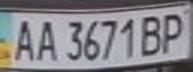1: (115, 15, 142, 58)
3: (63, 17, 84, 62)
6: (81, 17, 103, 62)
7: (96, 16, 121, 61)
A: (6, 16, 39, 63), (30, 16, 60, 63)
B: (136, 11, 169, 56)
P: (157, 9, 190, 54)
